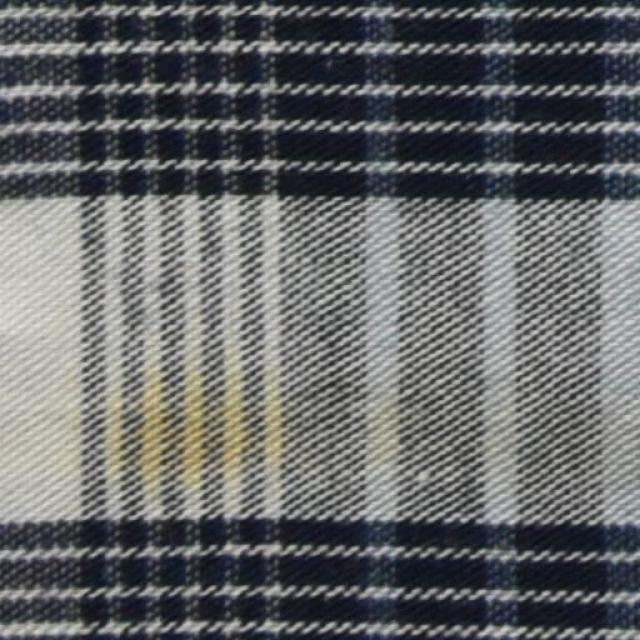Stain: (94, 365, 276, 498)
